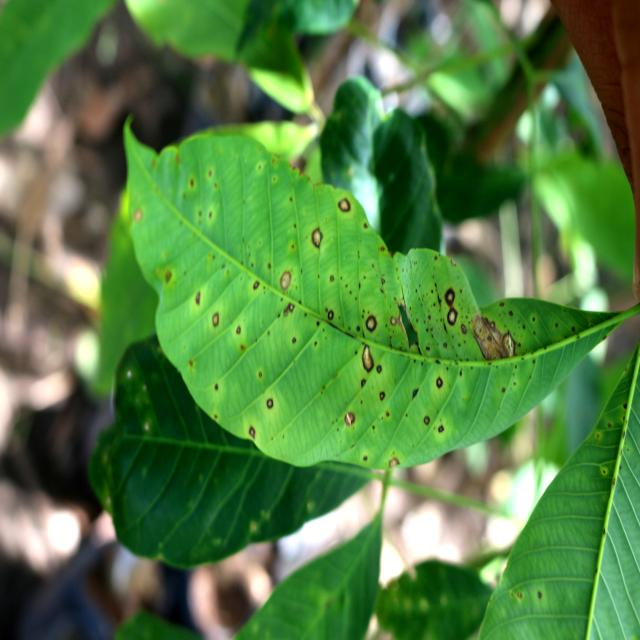Colletotrichum: (362, 343, 374, 374), (311, 227, 323, 249), (280, 271, 292, 290), (337, 197, 351, 213), (445, 287, 456, 306), (447, 308, 458, 326), (366, 315, 377, 332), (345, 412, 355, 427), (436, 376, 443, 389), (212, 313, 219, 326), (423, 415, 430, 426), (328, 310, 334, 320), (253, 282, 260, 290), (267, 399, 273, 408), (438, 425, 444, 433), (376, 365, 382, 373), (289, 303, 294, 312), (236, 326, 241, 334), (380, 392, 385, 400)
